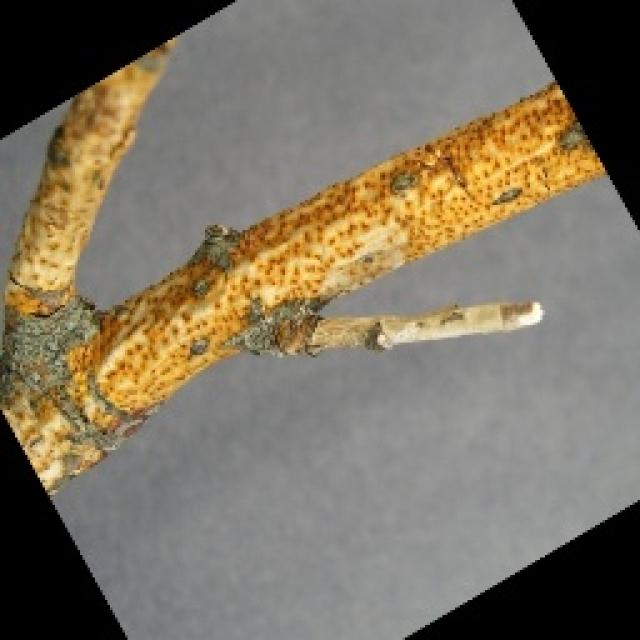Golden_canker: (0, 32, 608, 500)
